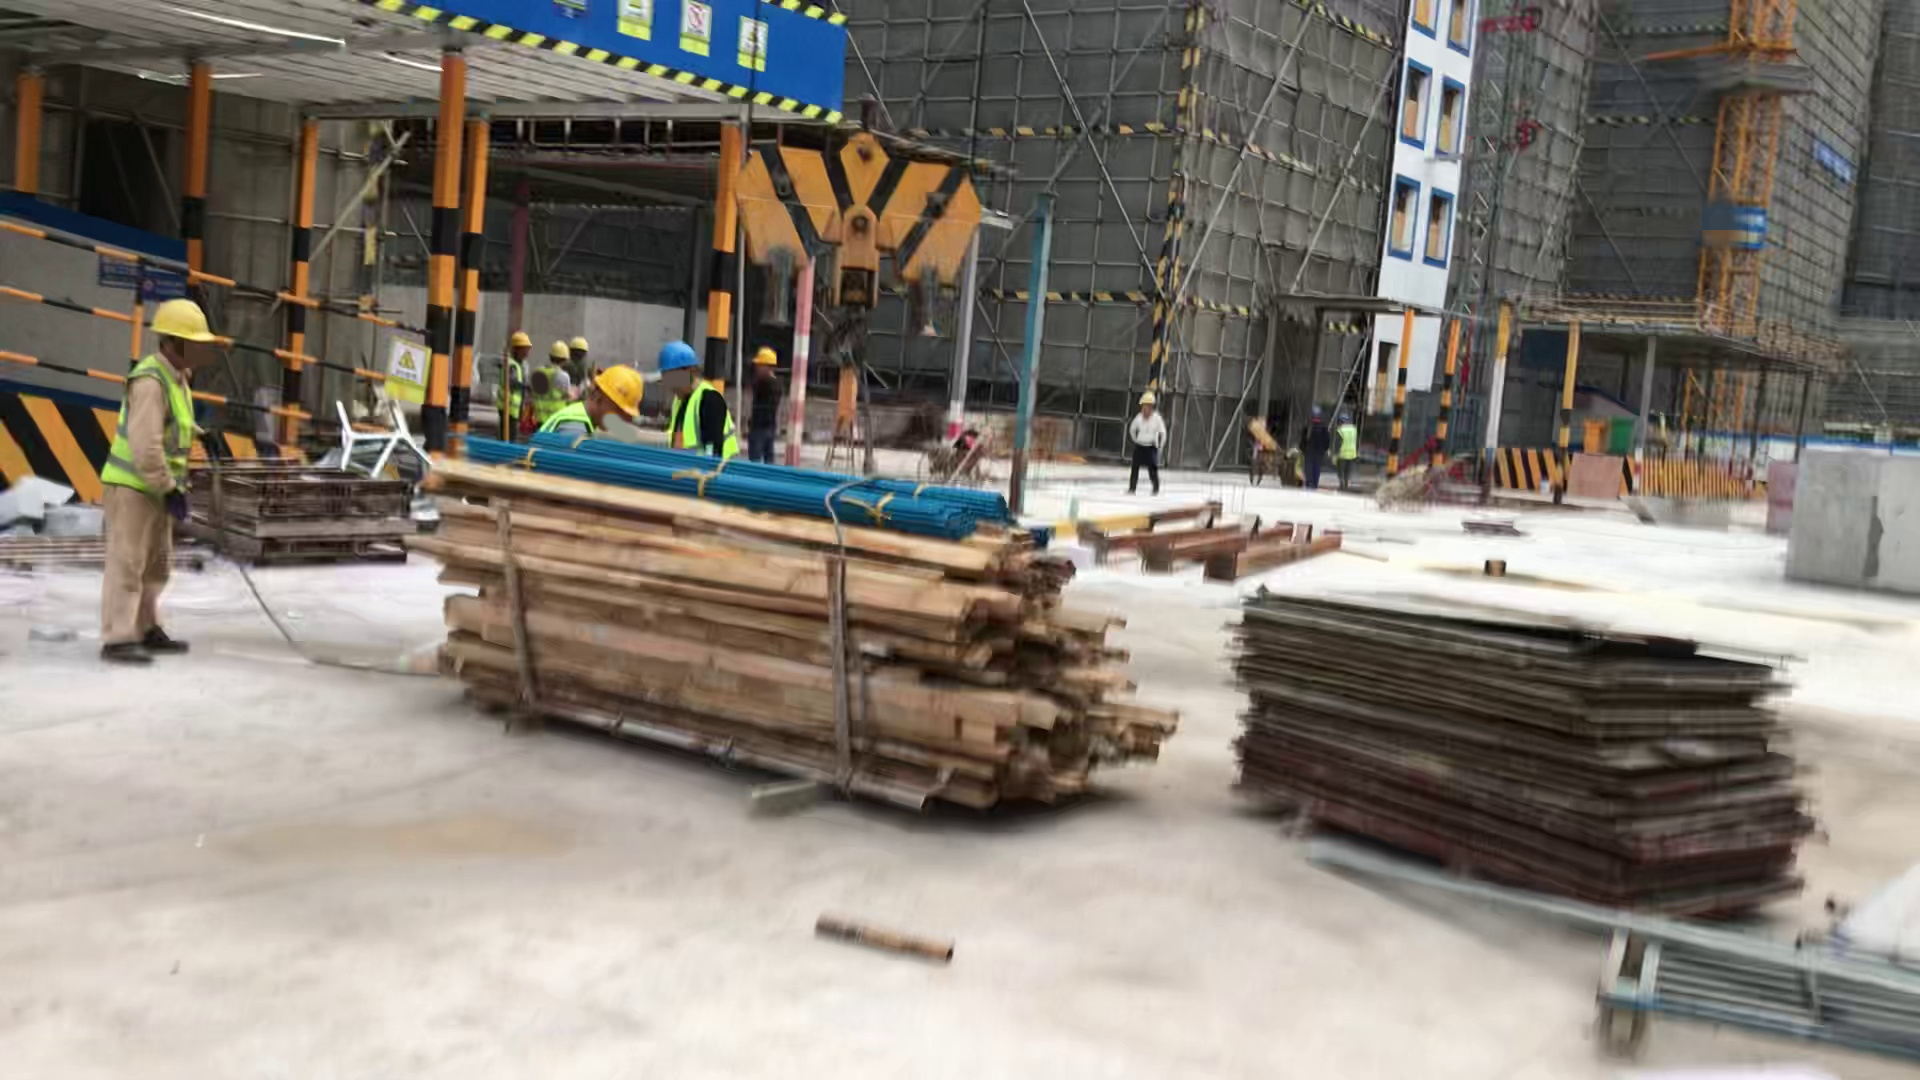board: (1231, 589, 1820, 901)
ebox: (832, 368, 859, 468)
handcart: (1378, 464, 1450, 506)
helmet: (148, 299, 214, 346), (594, 365, 644, 422), (659, 342, 699, 373), (752, 348, 778, 366), (507, 332, 531, 348), (549, 340, 568, 360), (569, 337, 589, 350), (1139, 392, 1157, 403)
hook: (729, 118, 985, 327)
hopper: (1620, 491, 1735, 533)
person: (104, 299, 211, 664), (663, 346, 740, 462), (542, 370, 644, 454), (497, 333, 533, 445), (748, 348, 778, 468), (1131, 391, 1162, 495), (1300, 407, 1329, 489), (1332, 410, 1361, 491), (546, 339, 567, 416), (567, 331, 588, 395)
slogan: (627, 1, 766, 77), (388, 343, 435, 407), (1812, 139, 1855, 184)
vest: (109, 372, 196, 495), (667, 390, 740, 455), (537, 403, 594, 438), (533, 373, 567, 423), (497, 362, 522, 416), (1336, 424, 1356, 460)
wood: (432, 469, 1173, 812)
